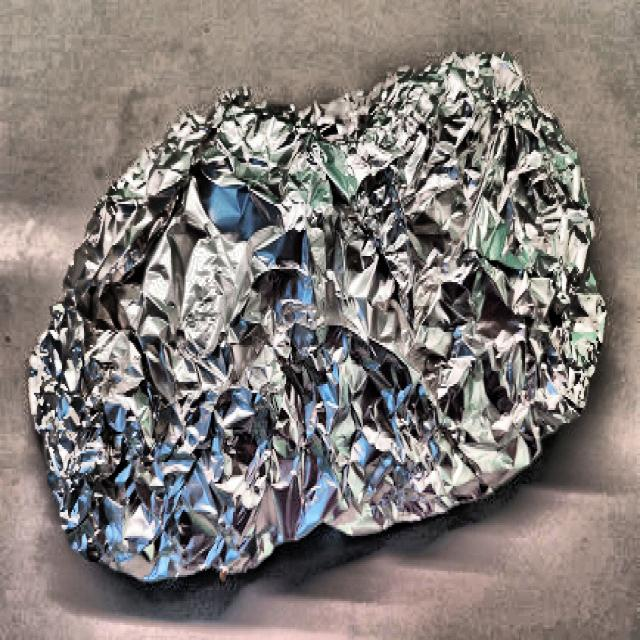Foil: (24, 45, 614, 592)
